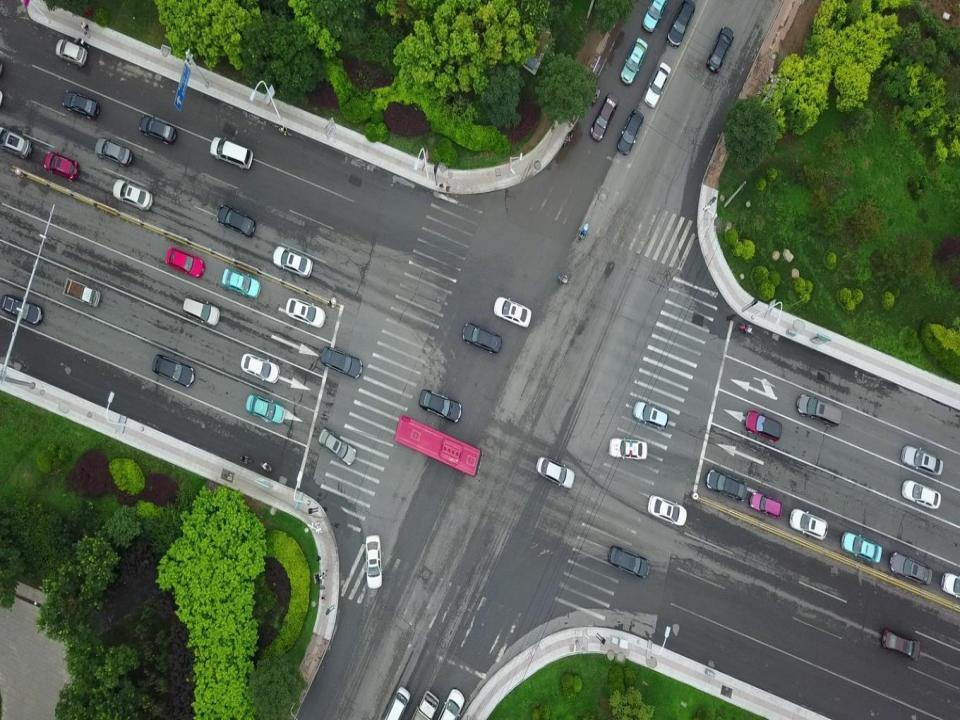bus: (388, 413, 486, 480)
car: (146, 350, 201, 388), (706, 19, 735, 81), (316, 344, 365, 380), (590, 89, 622, 144), (880, 629, 926, 667), (885, 550, 934, 584), (416, 388, 464, 422), (241, 394, 291, 426), (160, 243, 205, 278), (894, 478, 943, 510), (207, 136, 253, 170), (282, 296, 328, 330), (111, 178, 158, 211), (705, 468, 748, 504), (136, 110, 180, 145), (317, 427, 357, 465), (644, 60, 672, 113), (841, 530, 882, 566), (490, 296, 536, 328), (609, 546, 655, 578), (642, 493, 688, 525), (239, 351, 281, 386), (617, 108, 644, 162), (534, 456, 576, 490), (788, 506, 830, 540), (458, 323, 501, 356), (744, 408, 783, 444), (621, 36, 648, 88), (667, 0, 695, 50), (362, 532, 386, 590), (898, 445, 946, 474), (0, 293, 44, 324), (42, 152, 86, 182), (271, 244, 312, 276), (632, 397, 670, 431), (60, 88, 100, 120), (221, 268, 260, 300), (92, 136, 132, 166), (0, 125, 32, 159), (607, 435, 648, 461), (439, 685, 469, 720), (54, 38, 90, 66), (750, 489, 782, 518), (642, 0, 666, 34), (939, 571, 960, 598)
truck: (62, 278, 102, 308), (412, 688, 439, 720)
van: (794, 393, 845, 428), (178, 296, 224, 330), (385, 684, 411, 719)
